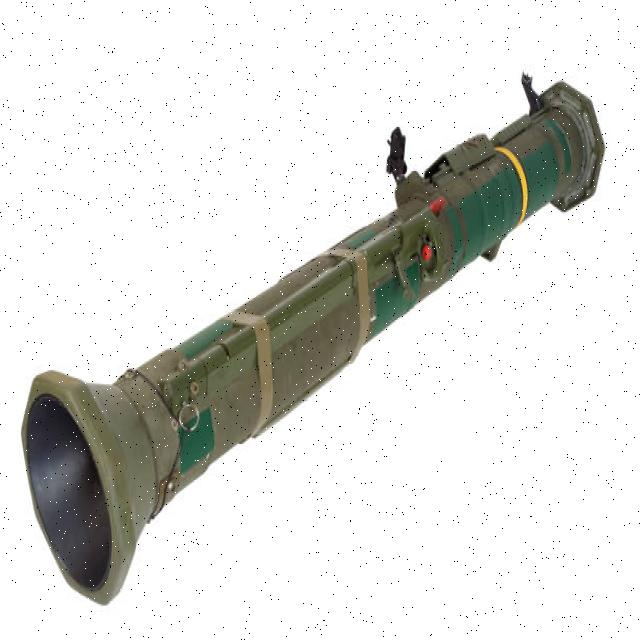bazooka: (11, 66, 612, 618)
